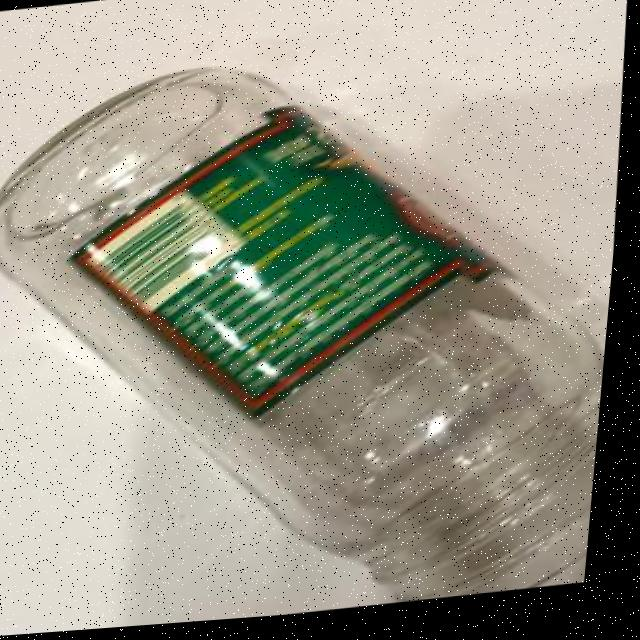glass: (0, 21, 636, 640)
